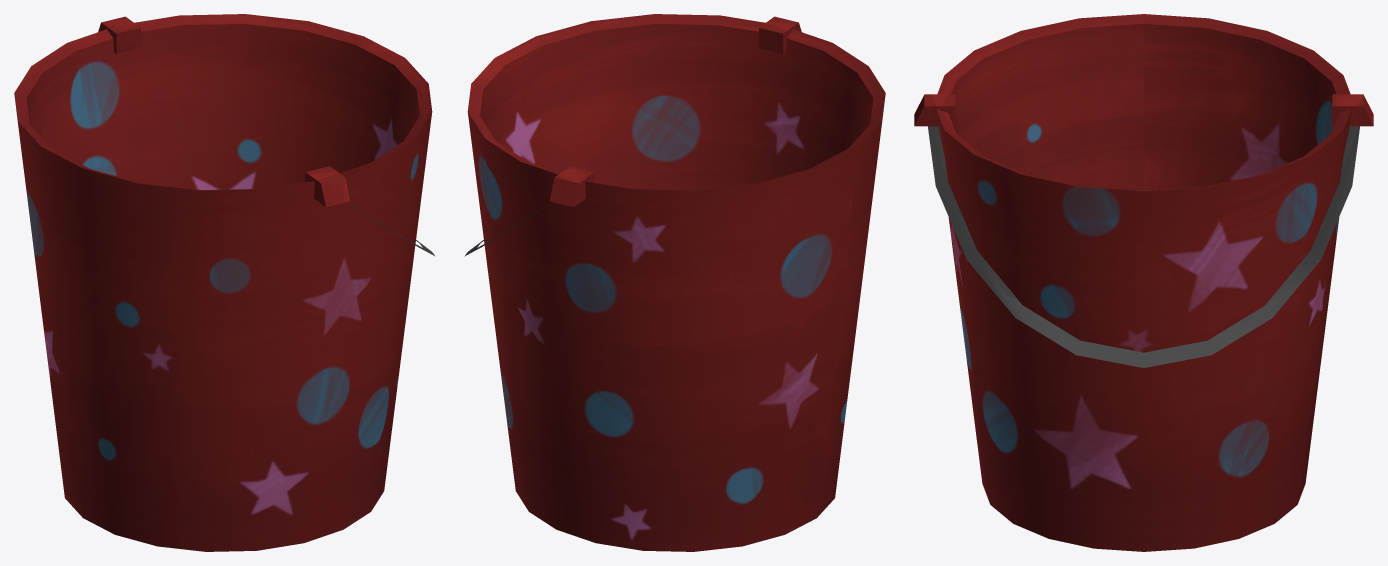
File: bucket.fbx
3 renders of one model, left to right at view 1: azimuth 30°, elevation 25°; view 2: azimuth 150°, elevation 25°; view 3: azimuth 270°, elevation 25°, orthographic.
Parts seen in each view (by area): view 1: polySurface14, pCube14; view 2: polySurface14, pCube14; view 3: polySurface14, polySurface13, pCube14.
Part boxes in pixels (box(x1,y1,x2,y2)): polySurface14: box(14, 14, 432, 551); pCube14: box(98, 16, 350, 207); polySurface14: box(467, 14, 885, 551); pCube14: box(549, 16, 801, 207); polySurface14: box(936, 14, 1351, 551); polySurface13: box(928, 126, 1359, 367); pCube14: box(914, 94, 1373, 126).
Size of the model in its own units: 18.03 by 18.05 by 19.61.
